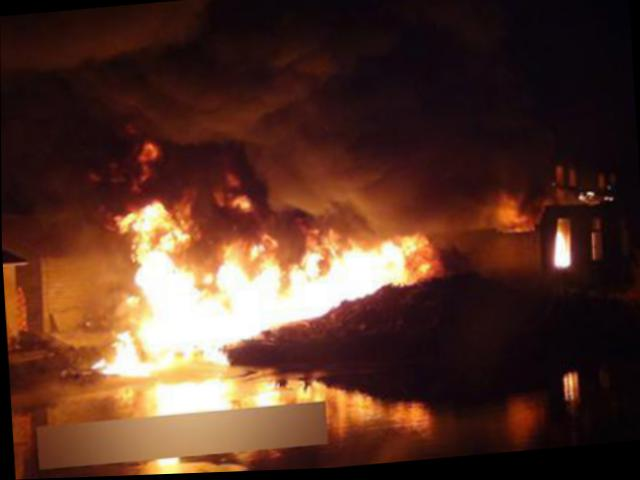fire: (137, 248, 219, 371), (215, 264, 292, 339), (123, 195, 198, 250), (288, 257, 343, 320), (372, 235, 427, 290), (155, 378, 232, 417), (217, 231, 286, 268), (100, 331, 142, 381), (342, 249, 377, 303), (490, 195, 534, 237), (551, 221, 575, 271), (253, 381, 283, 408), (226, 191, 254, 215), (139, 139, 162, 162)
